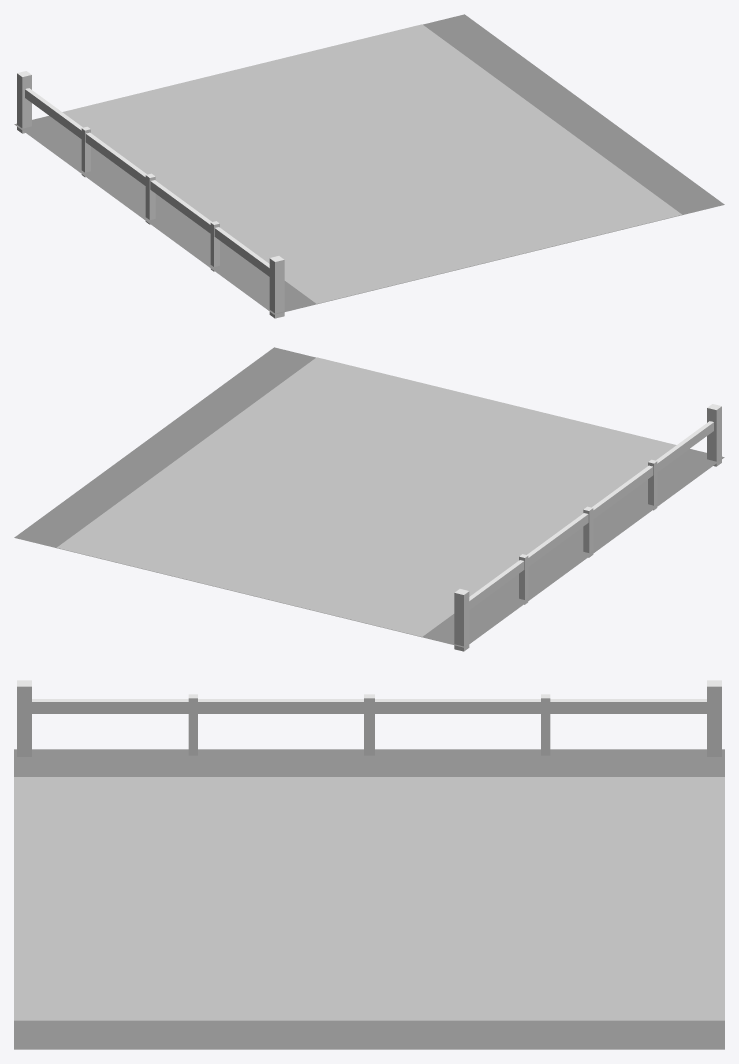
File: tile_for_home_1x1_020.fbx
3 renders of one model, top to bottom at view 1: azimuth 30°, elevation 25°; view 2: azimuth 150°, elevation 25°; view 3: azimuth 270°, elevation 25°, orthographic. The views are drawn at different scales.
Parts seen in each view (by area): view 1: tile_for_home_1x1_020; view 2: tile_for_home_1x1_020; view 3: tile_for_home_1x1_020.
Boxes of the visible parts, bbox=[...] form: tile_for_home_1x1_020: bbox=[14, 14, 724, 318]; tile_for_home_1x1_020: bbox=[14, 347, 724, 651]; tile_for_home_1x1_020: bbox=[14, 680, 724, 1049].
Size of the model in its own units: 800 by 95.9 by 800.
